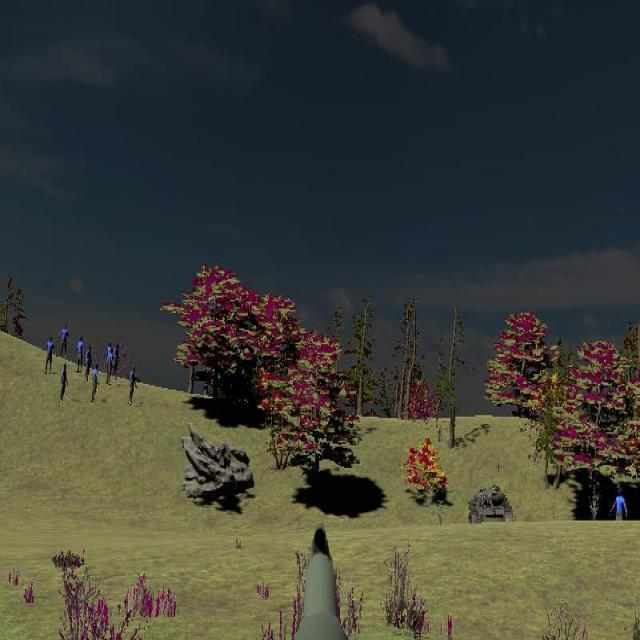Human: (610, 486, 628, 537)
Tank: (468, 483, 515, 529)
